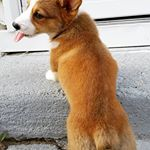puppy: (10, 1, 137, 150)
